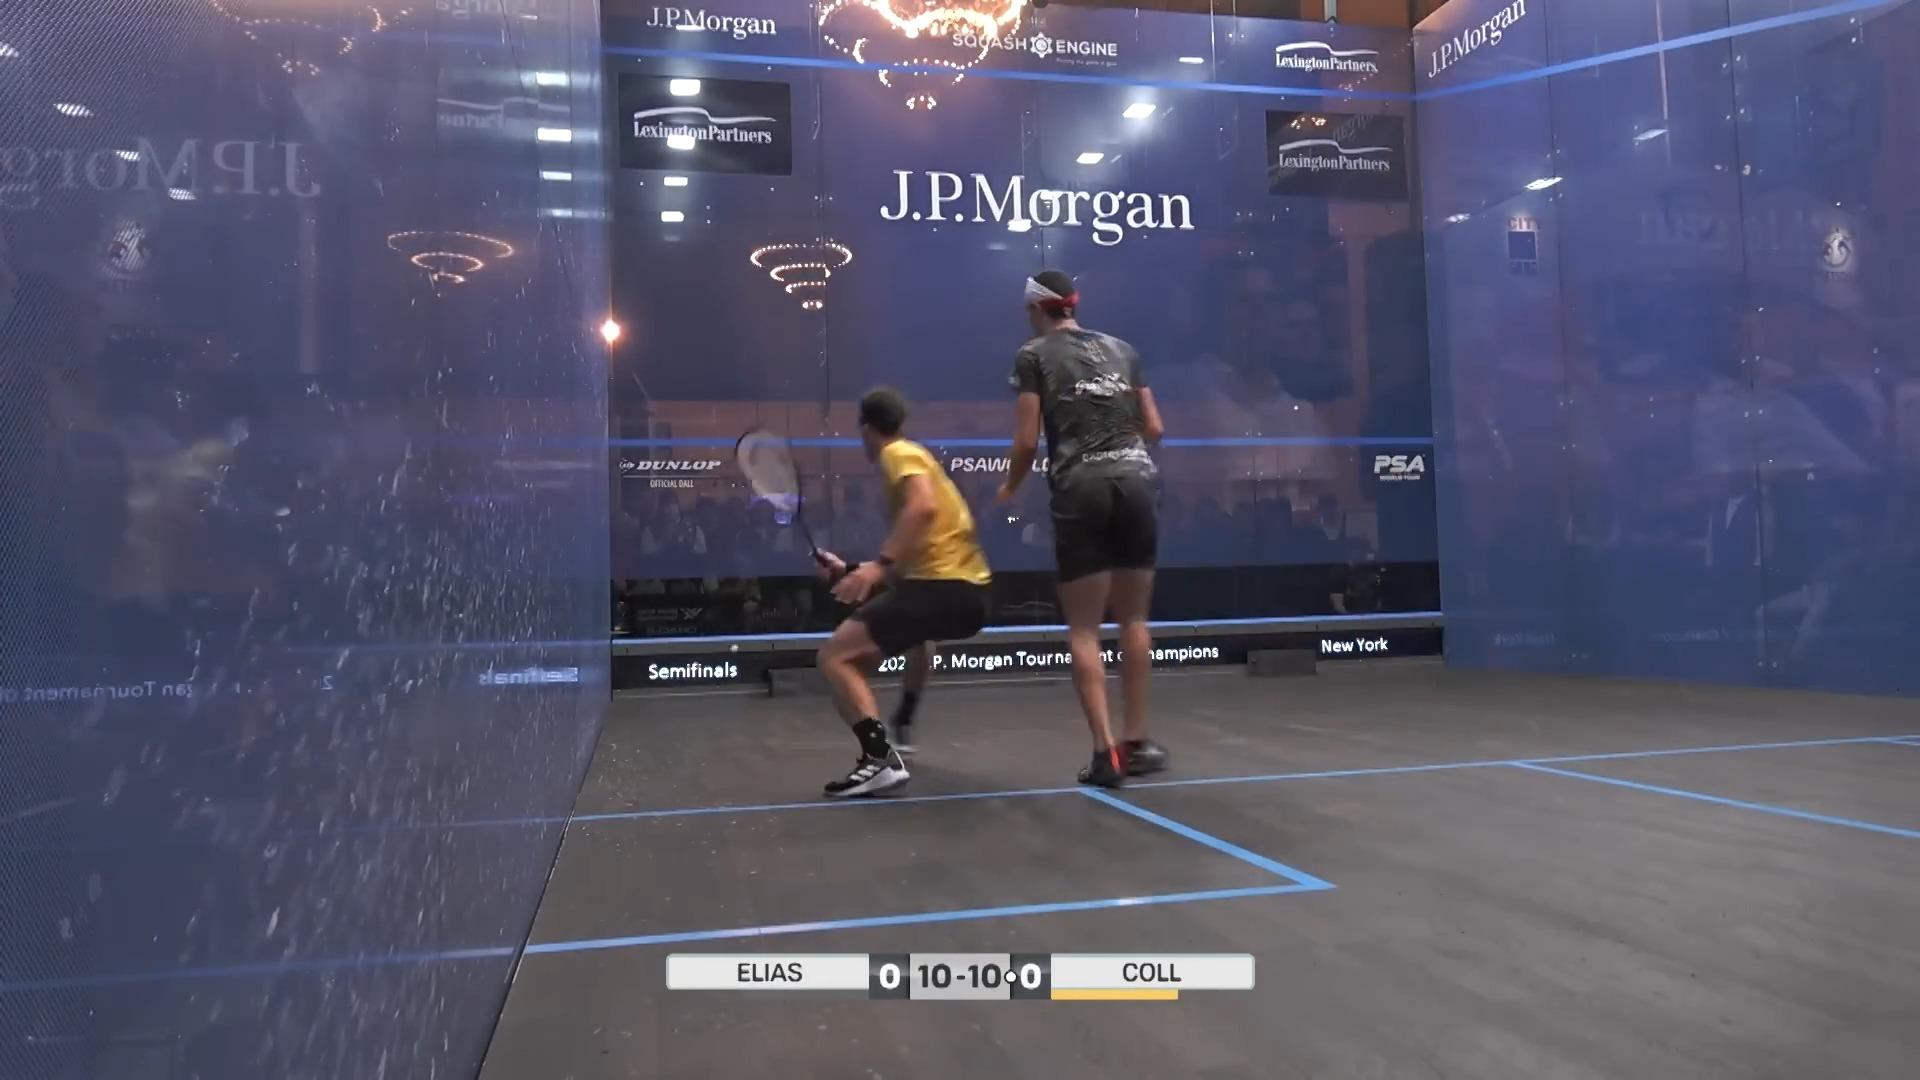Racket: (728, 417, 827, 556)
